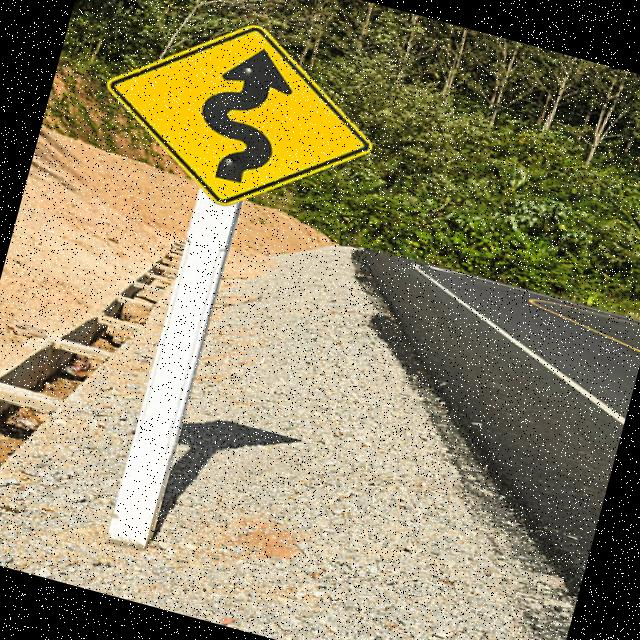left_sharp_curve: (68, 0, 402, 242)
